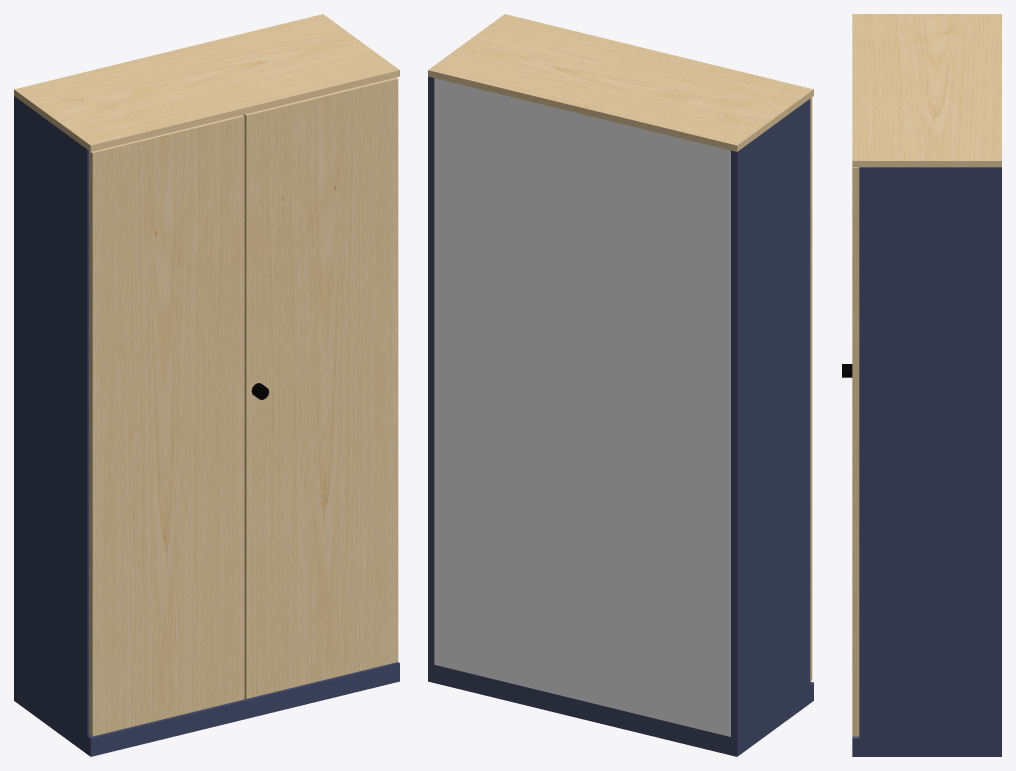
The model's file is cabinet.fbx.
The picture shows the model from 3 angles, left to right: view 1: azimuth 30°, elevation 25°; view 2: azimuth 150°, elevation 25°; view 3: azimuth 270°, elevation 25°; orthographic projection. The views are drawn at different scales.
Parts seen in each view (by area): view 1: door_left, door_right, cabinet; view 2: cabinet, door_left; view 3: cabinet, door_right.
Boxes of the visible parts, left/top/right/bottom form: door_left: left=89, top=115, right=244, bottom=736; door_right: left=243, top=77, right=398, bottom=698; cabinet: left=14, top=14, right=399, bottom=756; cabinet: left=428, top=14, right=813, bottom=756; door_left: left=810, top=97, right=812, bottom=681; cabinet: left=852, top=14, right=1001, bottom=756; door_right: left=852, top=167, right=859, bottom=736.
Bounding box in the file's own units: 1 × 1.89 × 0.4597.
Materials: 1 (1 with a texture image).
